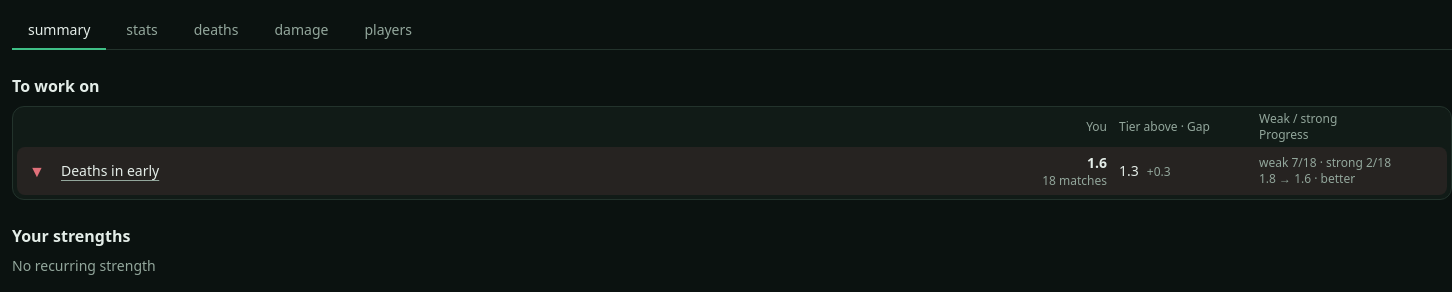
ReviewSummary › keeps the focus on the review tabs after a summary link
What coordinates should you click on to do the following:
click the link "Deaths in early"
I would click on:
 (110, 170)
Its box is [61,161,159,180].
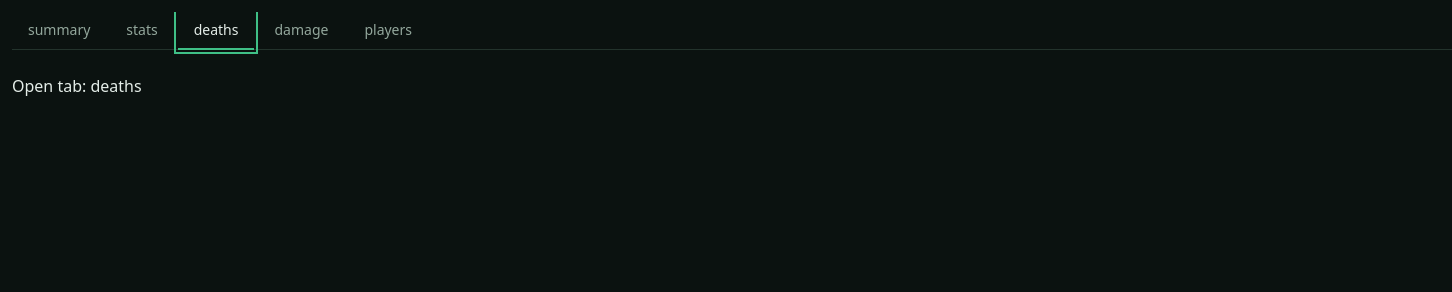
Now the text "Open tab: deaths" is shown, box [12,75,142,97]
